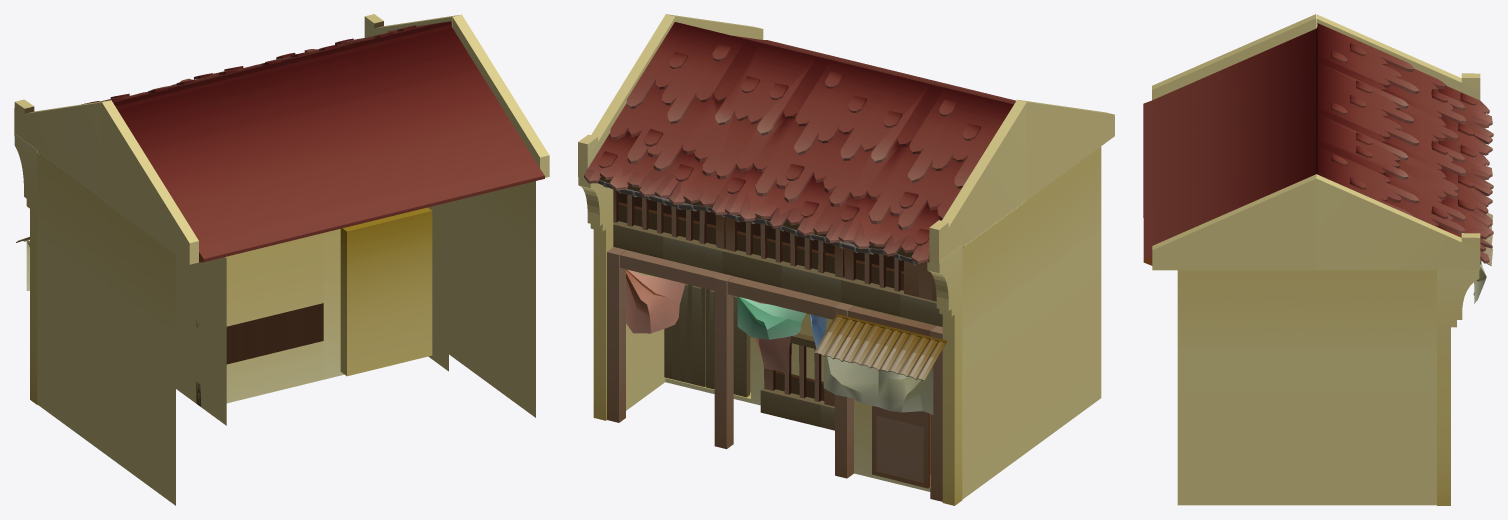
File: SM_Facade_OldQuarter_triple_01.fbx
3 views of the same model, side by side, from view 1: azimuth 30°, elevation 25°; view 2: azimuth 150°, elevation 25°; view 3: azimuth 270°, elevation 25° (orthographic). The views are drawn at different scales.
Parts seen in each view (by area): view 1: SM_Facade_OldQuarter_triple_01; view 2: SM_Facade_OldQuarter_triple_01; view 3: SM_Facade_OldQuarter_triple_01.
Part boxes in pixels (bbox=[...]): SM_Facade_OldQuarter_triple_01: bbox=[14, 14, 549, 505]; SM_Facade_OldQuarter_triple_01: bbox=[578, 14, 1114, 505]; SM_Facade_OldQuarter_triple_01: bbox=[1143, 14, 1493, 505].
Size of the model in its own units: 900 by 836 by 811.
